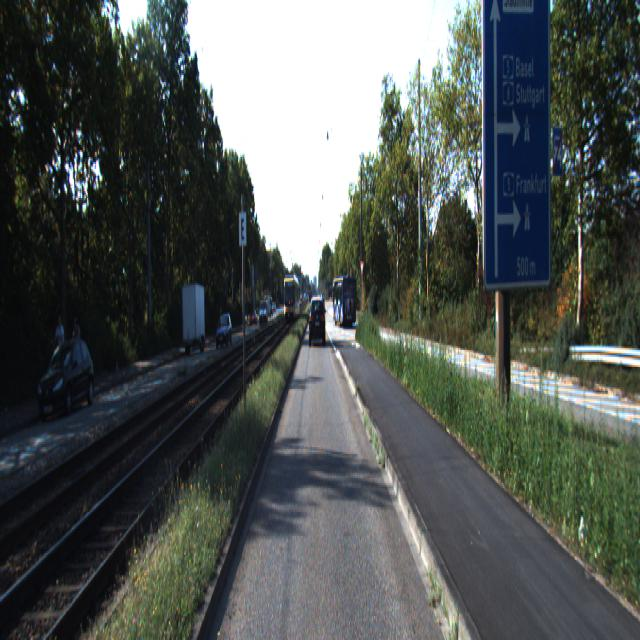Car: (36, 339, 96, 422), (181, 283, 205, 355), (333, 274, 356, 328), (309, 297, 325, 346), (215, 316, 232, 352)
